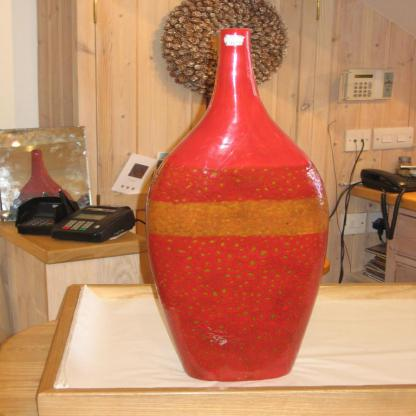vase: (142, 28, 330, 380), (10, 147, 74, 222)
